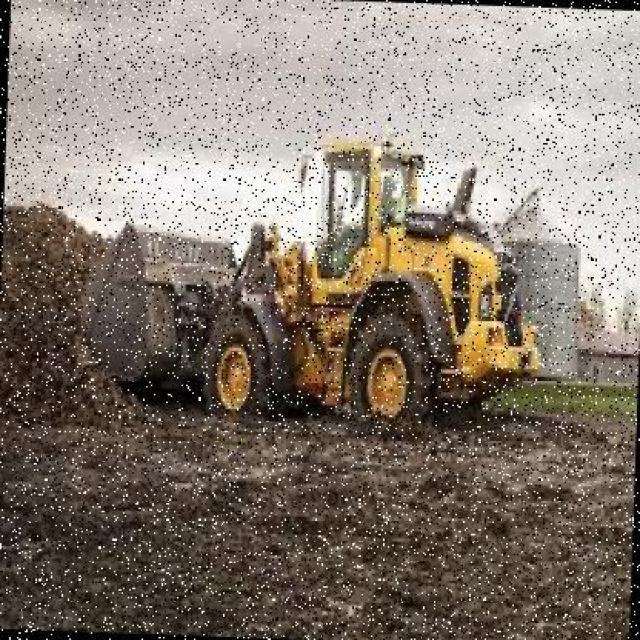buldozerpayloadergrader: (79, 127, 555, 444)
